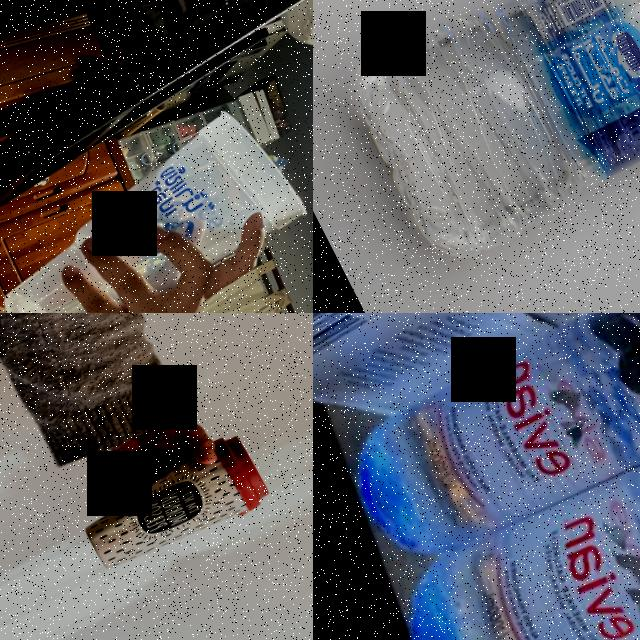bottle: (317, 313, 640, 595), (333, 0, 640, 277), (379, 341, 640, 640)
cup: (0, 98, 313, 313), (71, 426, 276, 584)
